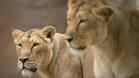lion: (65, 1, 138, 78), (10, 26, 92, 78)
